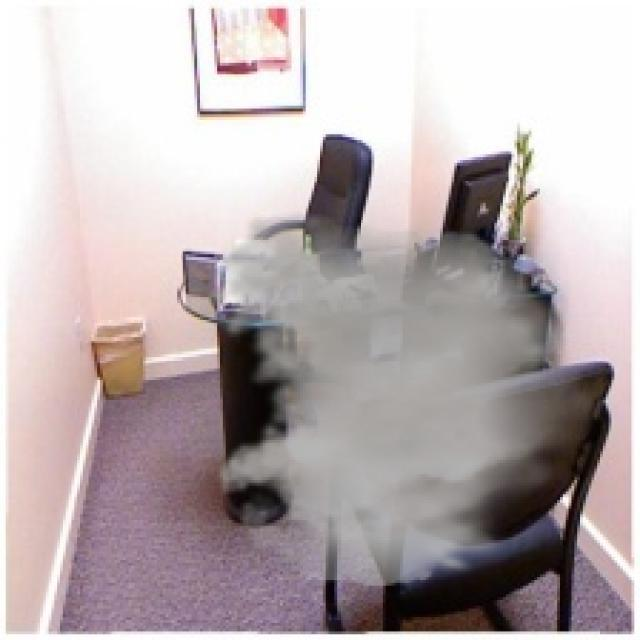smoke: (206, 211, 611, 586)
